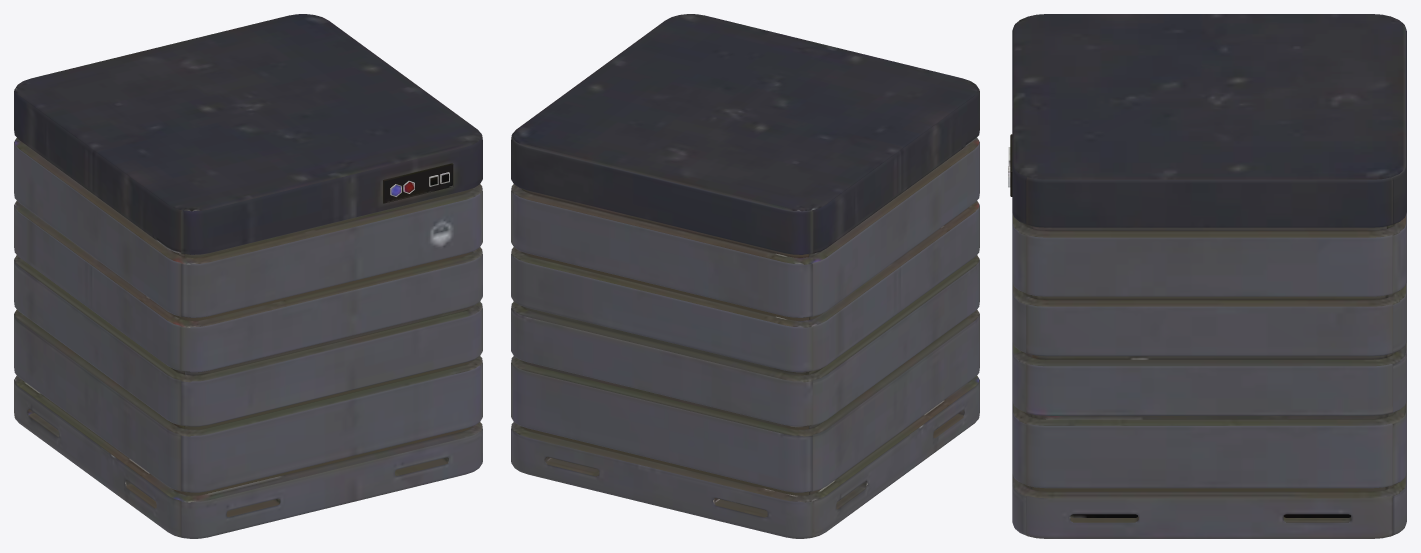
Rendered from cooler.glb.
3 views of the same model, side by side, from view 1: azimuth 30°, elevation 25°; view 2: azimuth 150°, elevation 25°; view 3: azimuth 270°, elevation 25° (orthographic). The views are drawn at different scales.
Parts seen in each view (by area): view 1: Object_4; view 2: Object_4; view 3: Object_4.
Boxes of the visible parts, <box> form: Object_4: <box>14,14,482,538</box>; Object_4: <box>511,14,979,538</box>; Object_4: <box>1008,14,1406,538</box>.
Size of the model in its own units: 0.8553 by 0.9 by 0.8644.
1 material, 1 textured.
